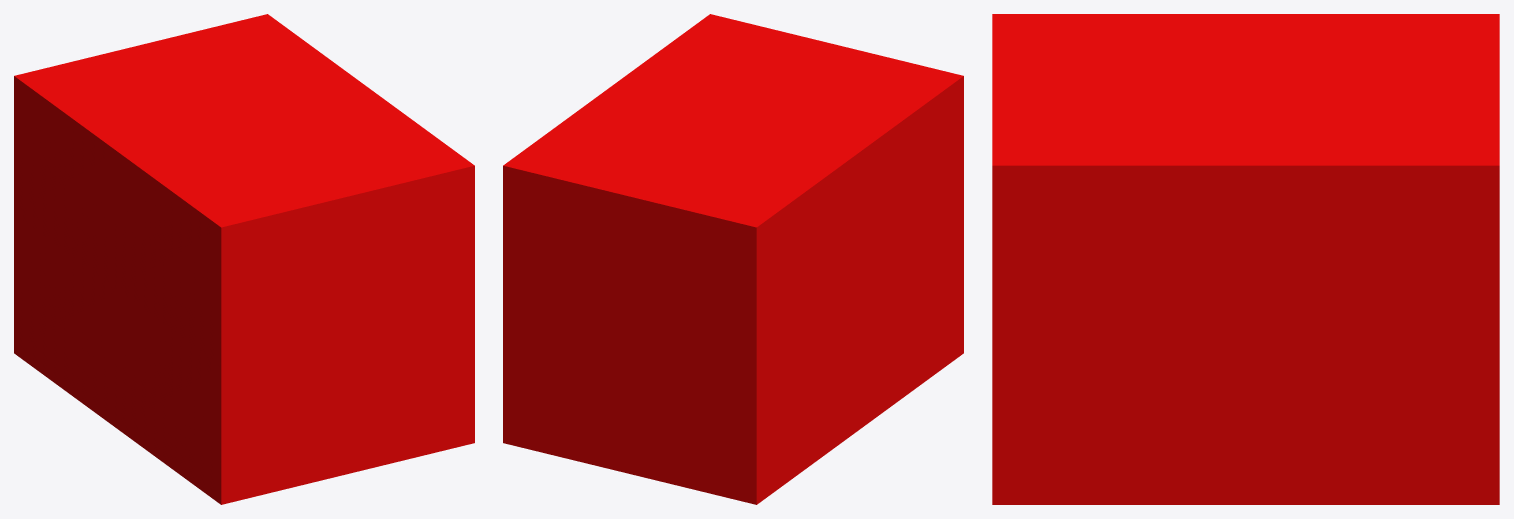
File: sacrumv_col.dae
3 views of the same model, side by side, from view 1: azimuth 30°, elevation 25°; view 2: azimuth 150°, elevation 25°; view 3: azimuth 270°, elevation 25° (orthographic). The views are drawn at different scales.
Visible parts, largest first — view 1: node0; view 2: node0; view 3: node0.
Part boxes in pixels (left/top/right/bottom): node0: left=14, top=14, right=474, bottom=504; node0: left=503, top=14, right=963, bottom=504; node0: left=992, top=14, right=1499, bottom=504.
Size of the model in its own units: 0.1016 by 0.1062 by 0.1437.
